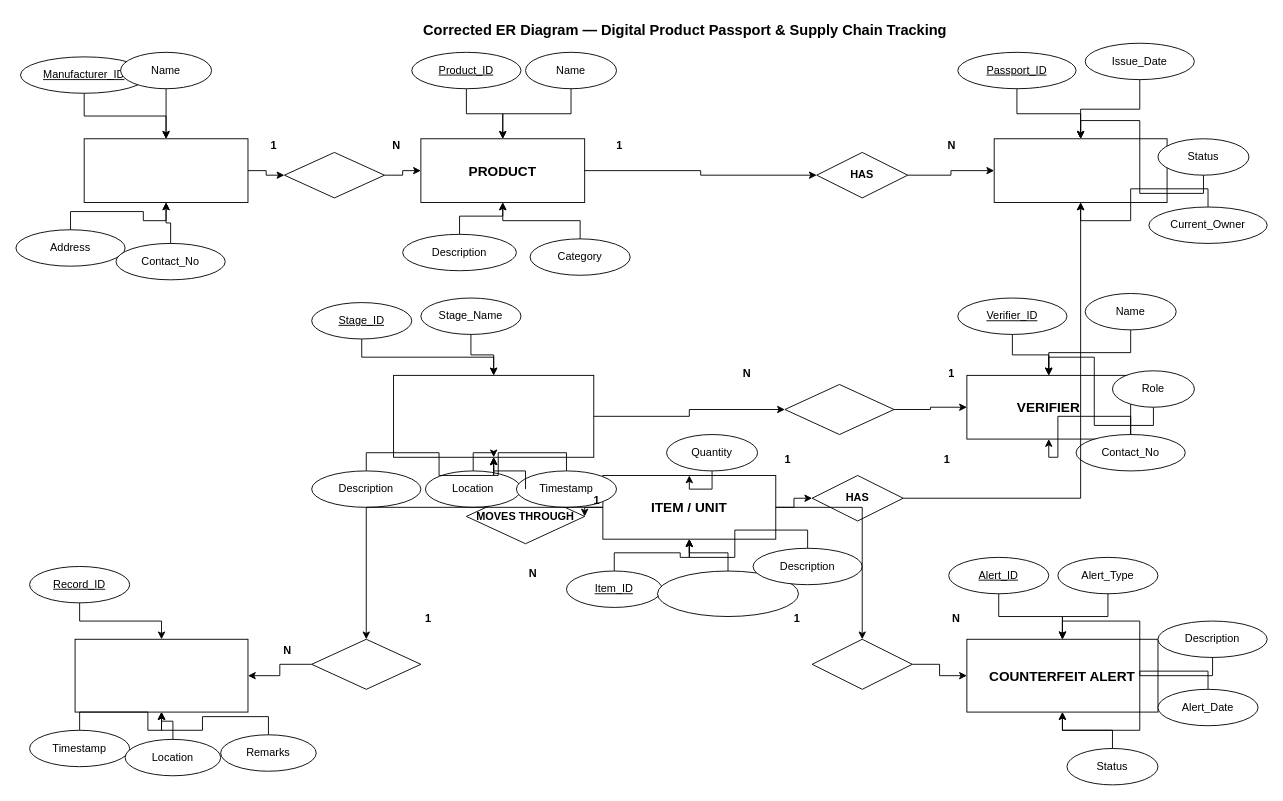
Some shapes in this 1283 by 801 pixel diagram are drawn without their labels. Each missing label, with the centre of its shape:
"DETECTS" belongs at pixel 861 663.
"DIGITAL PASSPORT" belongs at pixel 1080 170.
"GENERATES" belongs at pixel 366 663.
"MANUFACTURER" belongs at pixel 165 170.
"PRODUCES" belongs at pixel 333 175.
"Serial_No / Unique_Code" belongs at pixel 728 593.
"SUPPLY CHAIN STAGE" belongs at pixel 493 415.
"TRACKING RECORD" belongs at pixel 161 675.
"VERIFIES" belongs at pixel 839 409.
